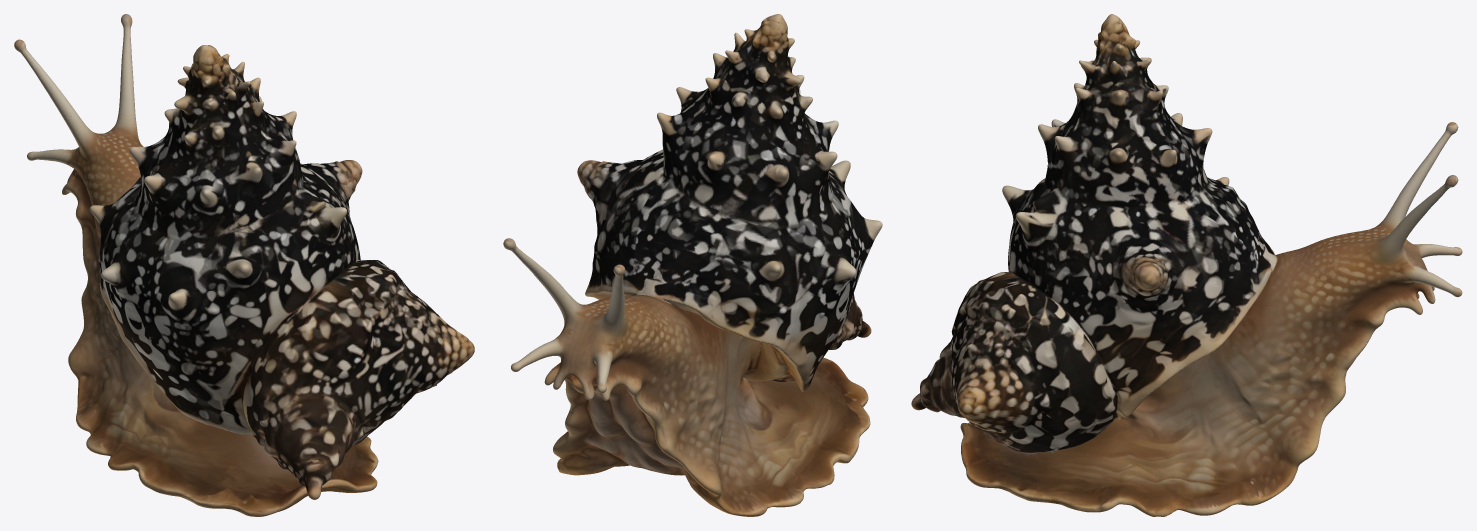
The model's file is pyr_b.glb.
The picture shows the model from 3 angles, left to right: view 1: azimuth 30°, elevation 25°; view 2: azimuth 150°, elevation 25°; view 3: azimuth 270°, elevation 25°; orthographic projection. The views are drawn at different scales.
Parts seen in each view (by area): view 1: tripo_node_dd1ad923-7098-4347-a310-d1242c1923d2; view 2: tripo_node_dd1ad923-7098-4347-a310-d1242c1923d2; view 3: tripo_node_dd1ad923-7098-4347-a310-d1242c1923d2.
Part boxes in pixels (left/top/right/bottom): tripo_node_dd1ad923-7098-4347-a310-d1242c1923d2: left=14, top=14, right=474, bottom=516; tripo_node_dd1ad923-7098-4347-a310-d1242c1923d2: left=503, top=14, right=882, bottom=516; tripo_node_dd1ad923-7098-4347-a310-d1242c1923d2: left=911, top=14, right=1462, bottom=516.
Size of the model in its own units: 0.604 by 0.8562 by 1.
1 material, 1 textured.
